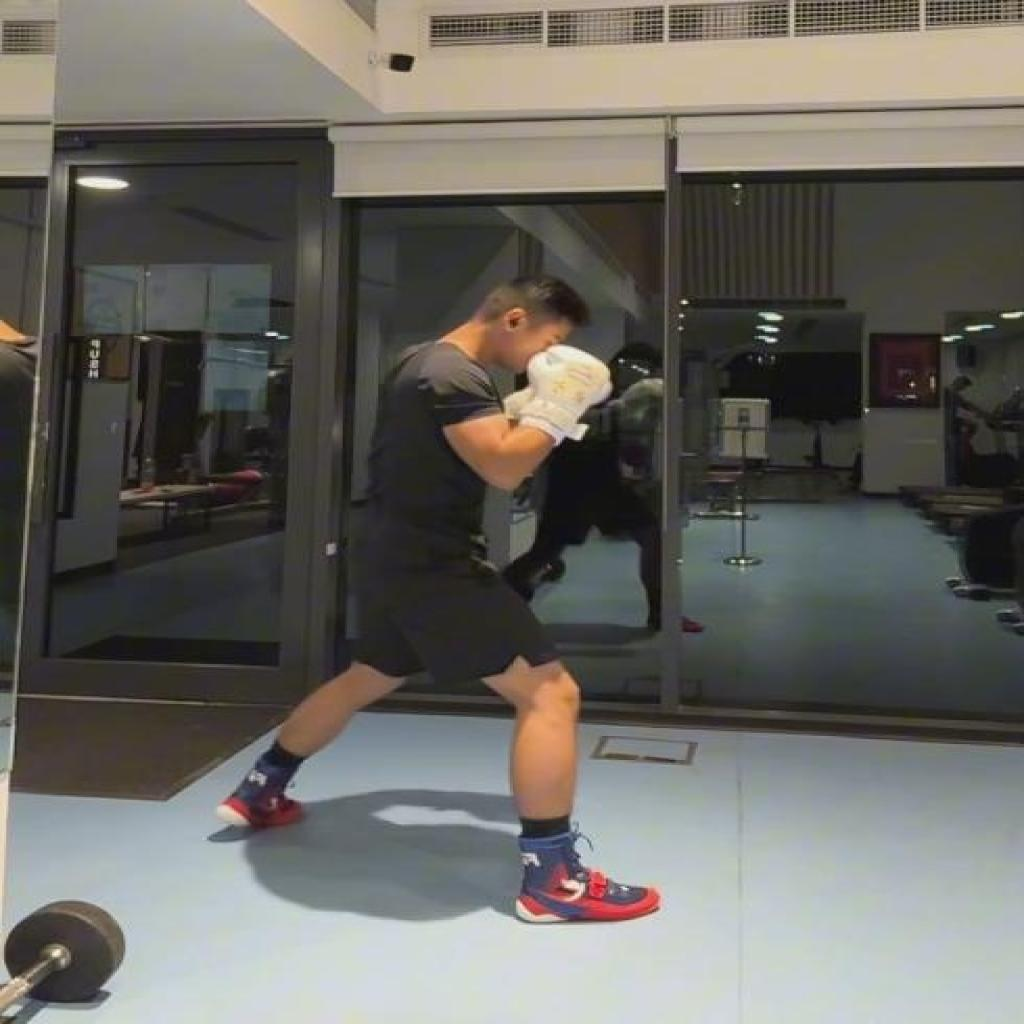no punch: (215, 275, 667, 930)
